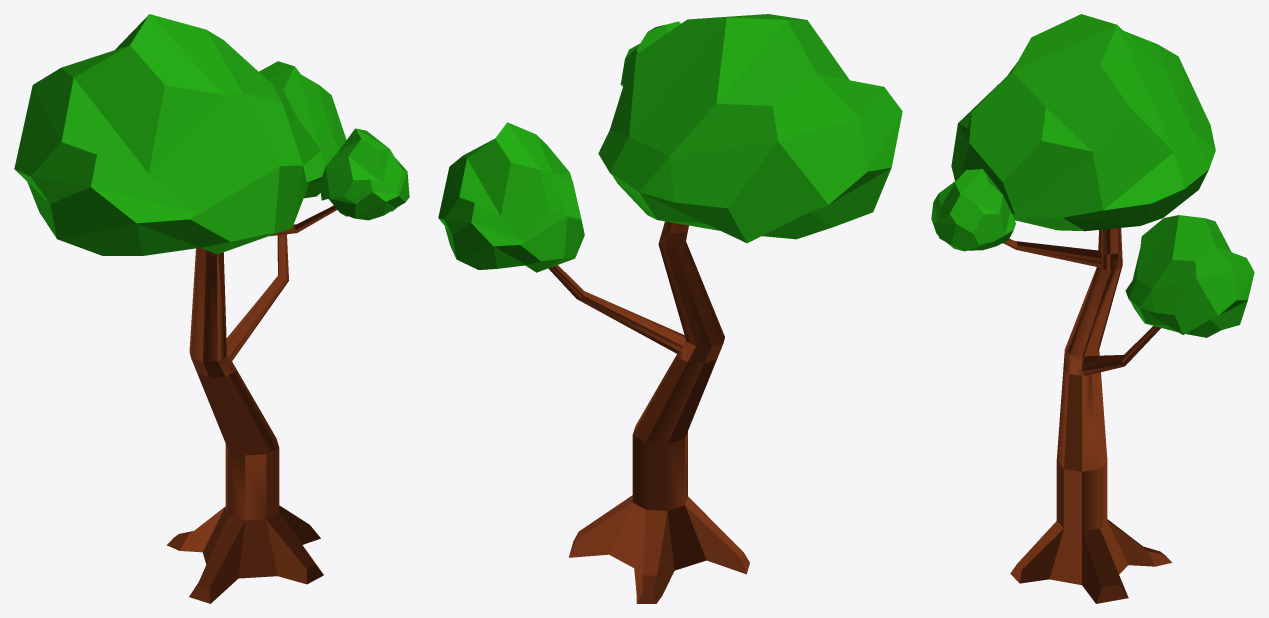
File: tree.fbx
3 renders of one model, left to right at view 1: azimuth 30°, elevation 25°; view 2: azimuth 150°, elevation 25°; view 3: azimuth 270°, elevation 25°, orthographic. The views are drawn at different scales.
Visible parts, largest first — view 1: piccolo2, Cylinder, piccolo_1, piccolo; view 2: piccolo2, Cylinder, piccolo, piccolo_1; view 3: piccolo2, Cylinder, piccolo, piccolo_1.
Boxes of the visible parts, bbox=[...] form: piccolo2: bbox=[14, 14, 307, 255]; Cylinder: bbox=[167, 205, 337, 603]; piccolo_1: bbox=[319, 128, 409, 220]; piccolo: bbox=[259, 61, 346, 198]; piccolo2: bbox=[598, 14, 902, 243]; Cylinder: bbox=[548, 221, 749, 603]; piccolo: bbox=[438, 122, 584, 272]; piccolo_1: bbox=[620, 21, 680, 86]; piccolo2: bbox=[951, 14, 1215, 231]; Cylinder: bbox=[1003, 228, 1171, 603]; piccolo: bbox=[1125, 215, 1254, 337]; piccolo_1: bbox=[931, 169, 1015, 251].
Size of the model in its own units: 745 by 1120 by 636.
